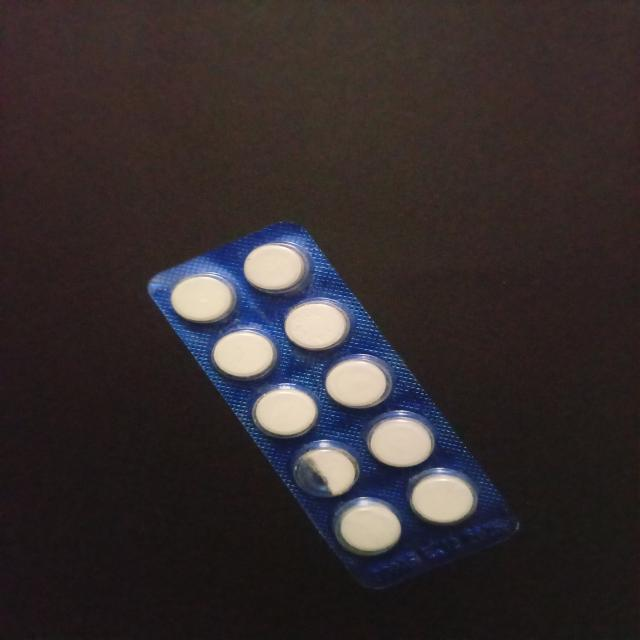defect: (287, 439, 368, 499)
